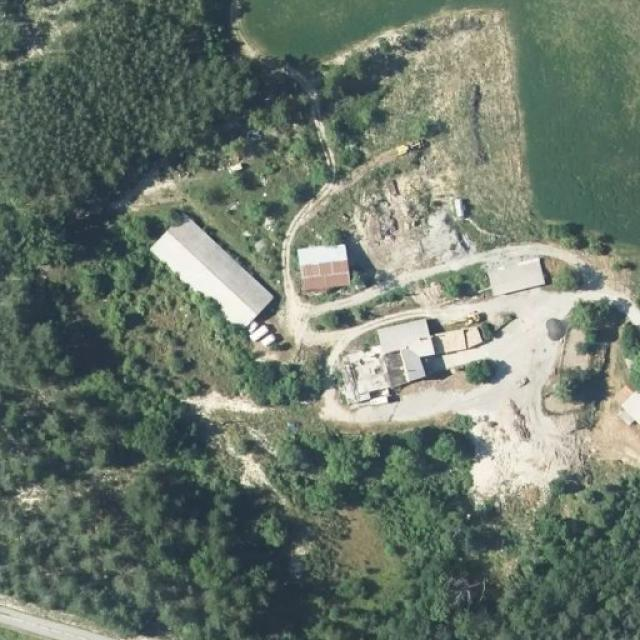ferme: (141, 211, 280, 347), (335, 317, 493, 391), (291, 242, 352, 298), (482, 257, 548, 293)
